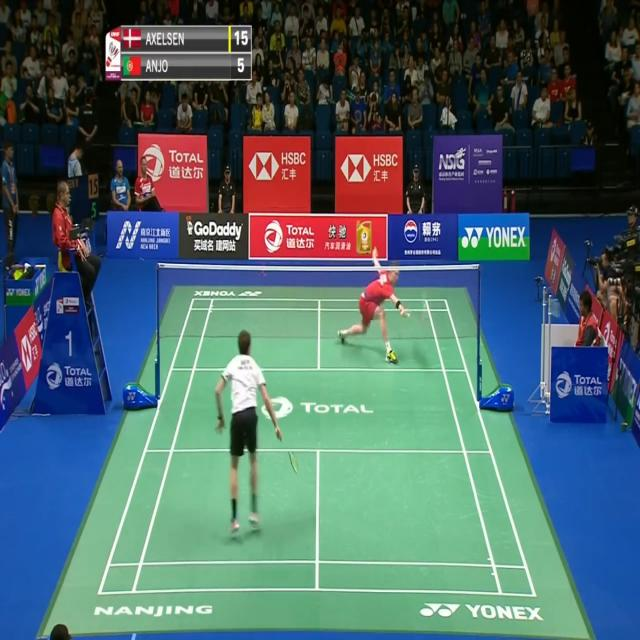Player1: (212, 325, 302, 543)
Player2: (336, 247, 428, 368)
